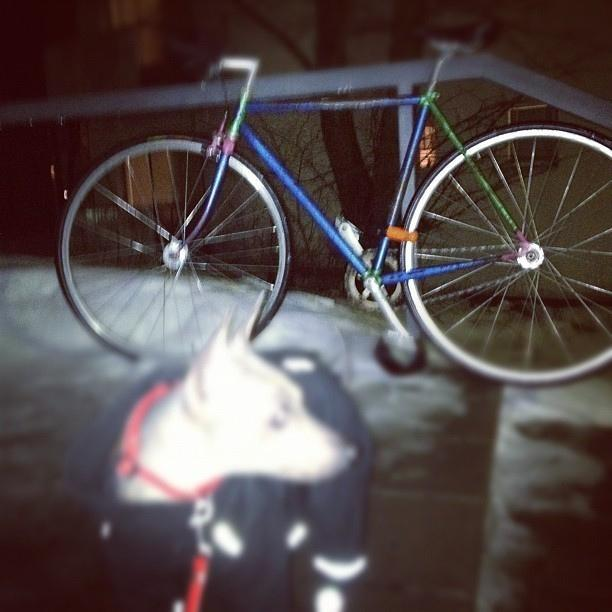bicycle: (66, 96, 610, 379), (215, 31, 605, 356)
